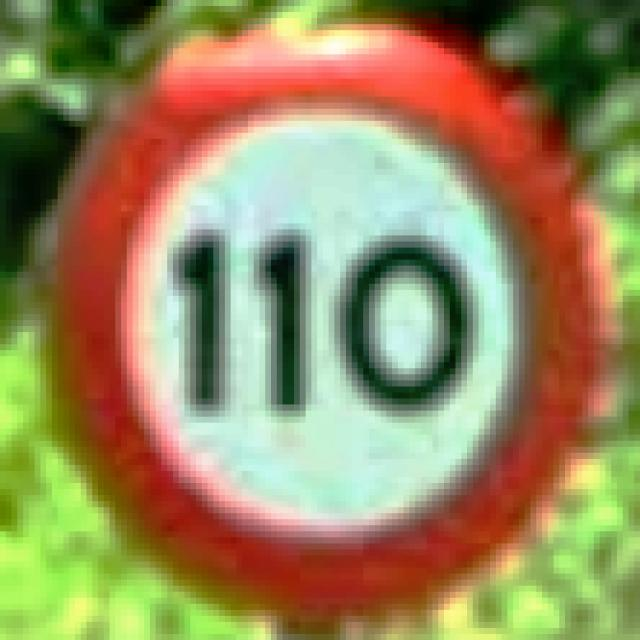max110: (40, 18, 617, 622)
